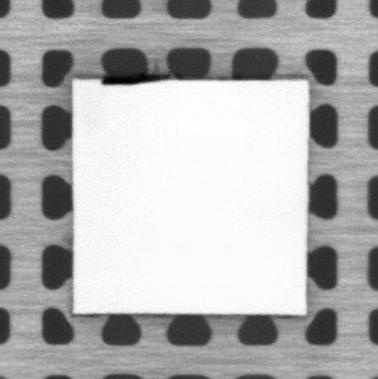DIE_BROKEN: (98, 72, 167, 86)
